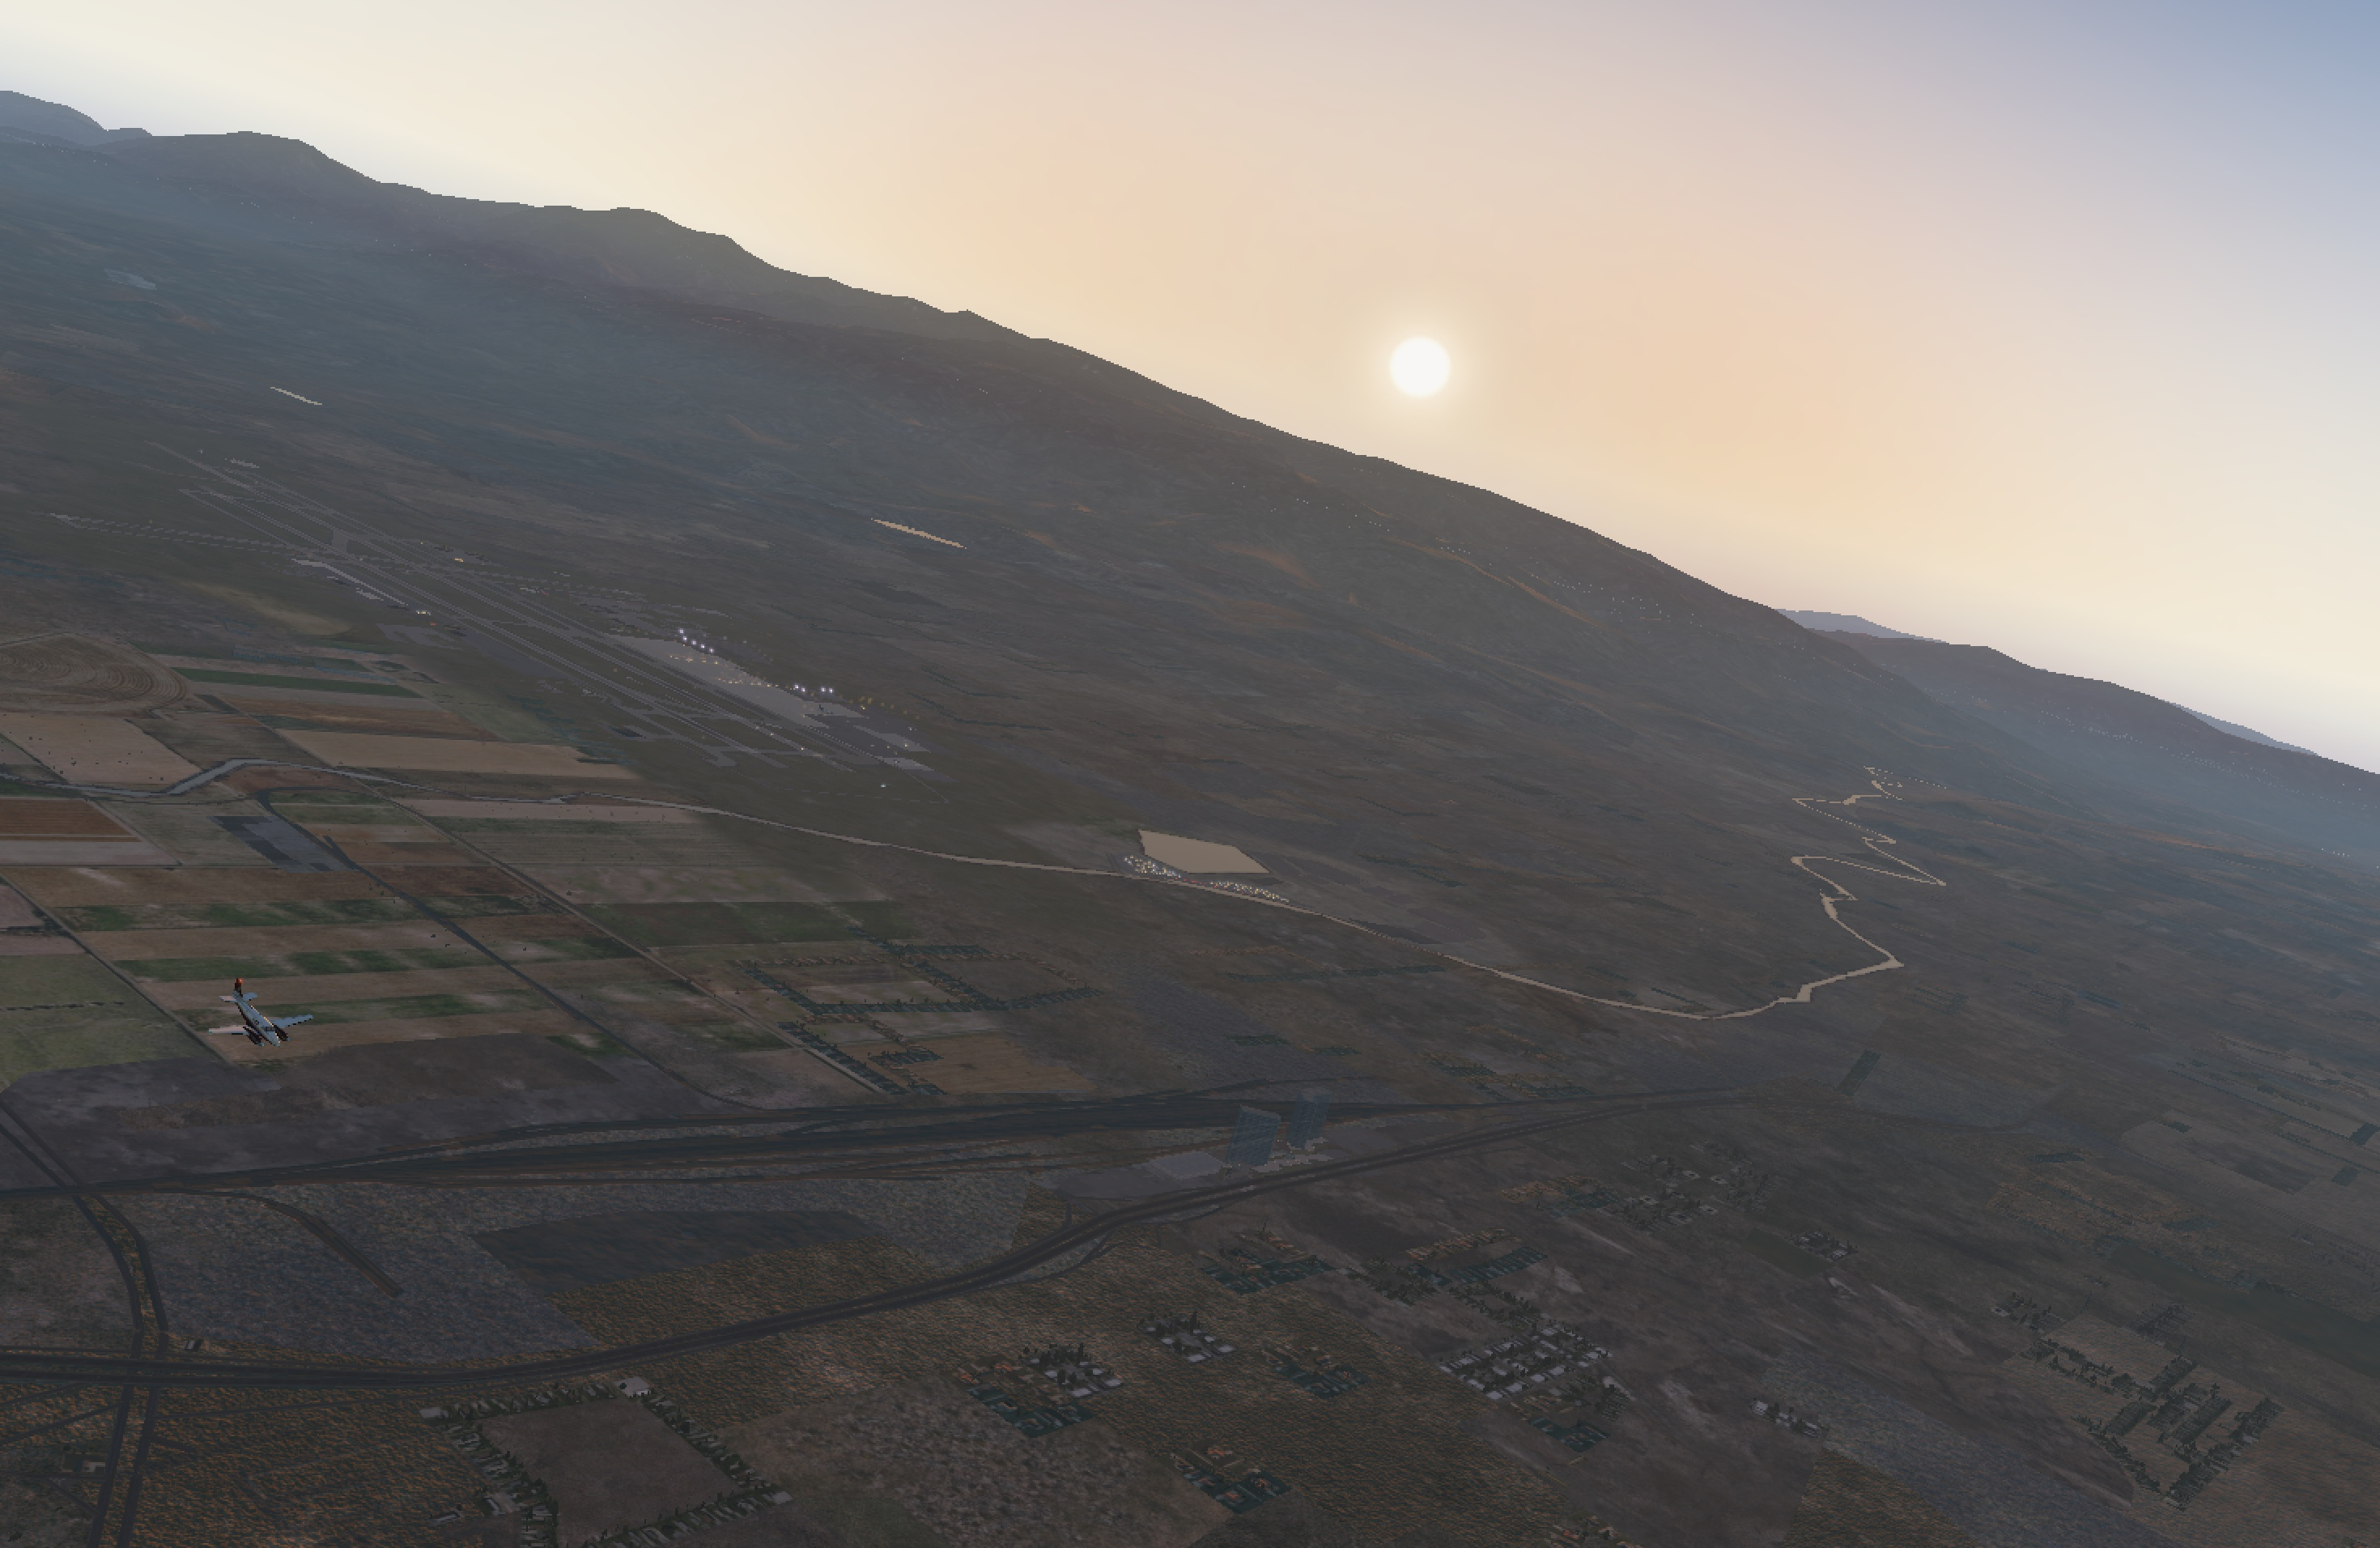aircraft: (205, 1012, 317, 1053)
